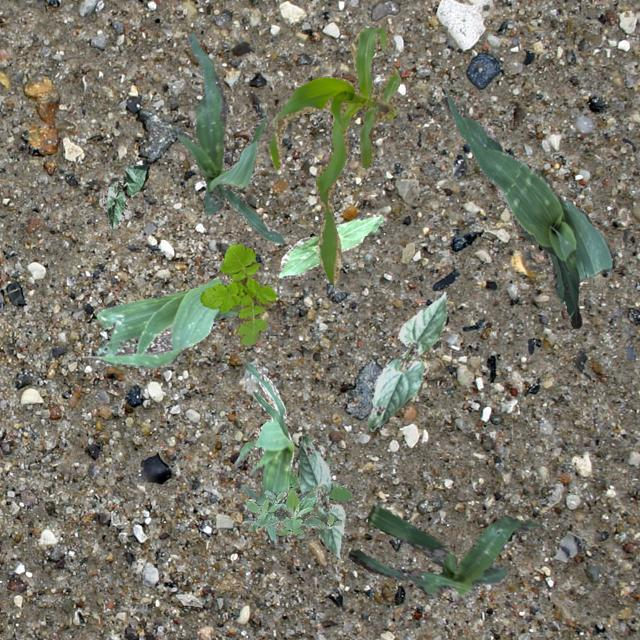crop: (442, 89, 614, 328), (268, 26, 401, 282), (176, 31, 284, 242), (348, 504, 538, 596), (85, 276, 242, 366), (367, 290, 448, 430), (232, 362, 292, 542), (278, 212, 382, 278), (296, 433, 344, 558), (100, 162, 148, 228)
weed: (198, 242, 274, 346), (242, 484, 341, 534), (288, 458, 352, 501)
